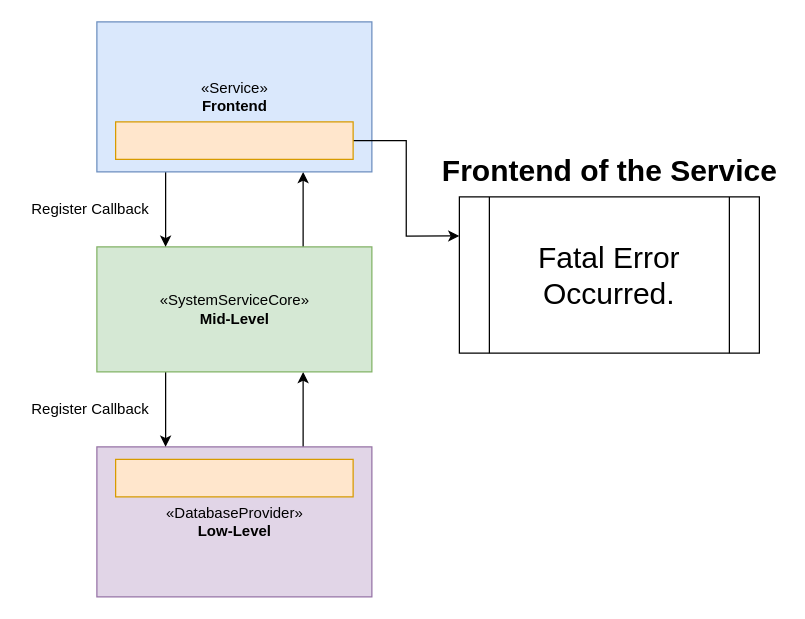
The diagram is 805 pixels wide and 619 high, and some of its shapes have lost their labels. The centre of each missing label's shape, as x and y in pixels:
call errorCallbackReceiver(): pixel 233 477
function errorCallbackReceiver(): pixel 233 140
